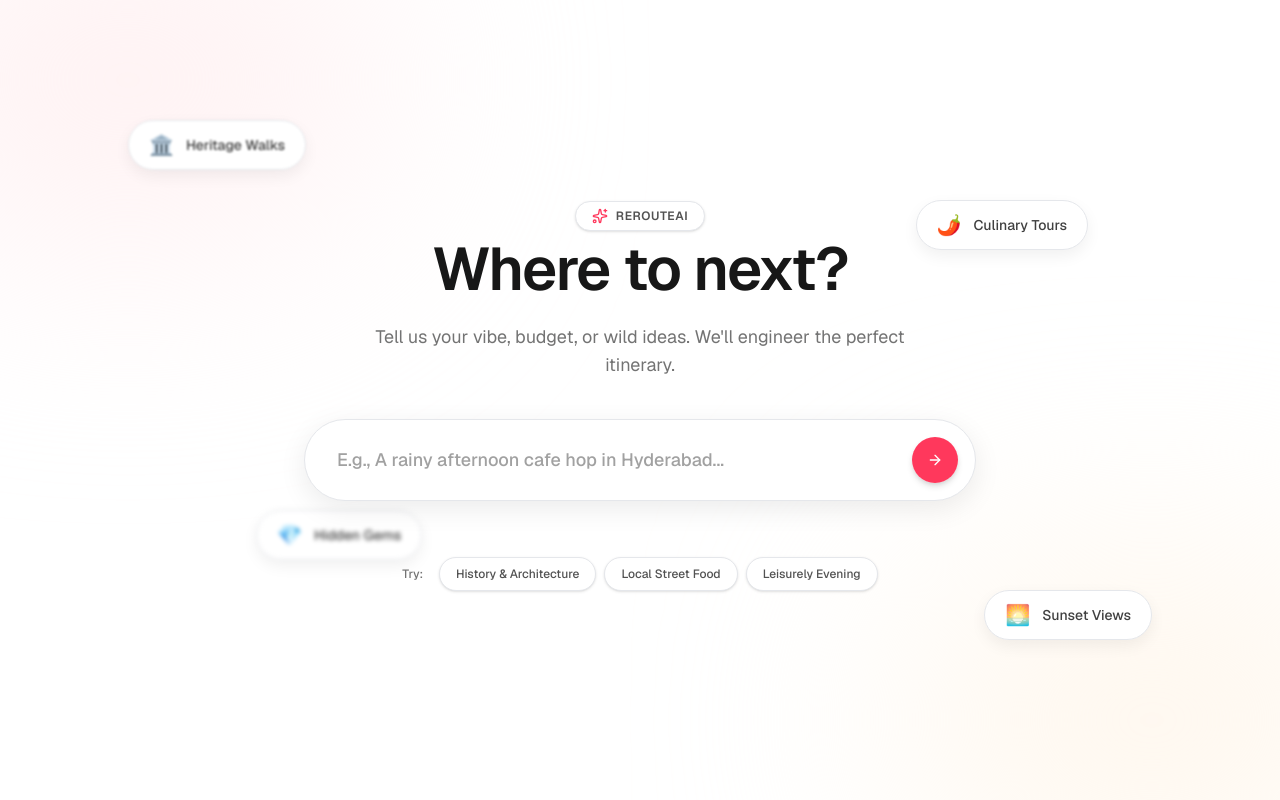
Test: Dashboard - Landing State › transitions to chat state when a suggested prompt is clicked
Click the button "History & Architecture" at (518, 574), box top-left (439, 557), bottom-right (596, 591)
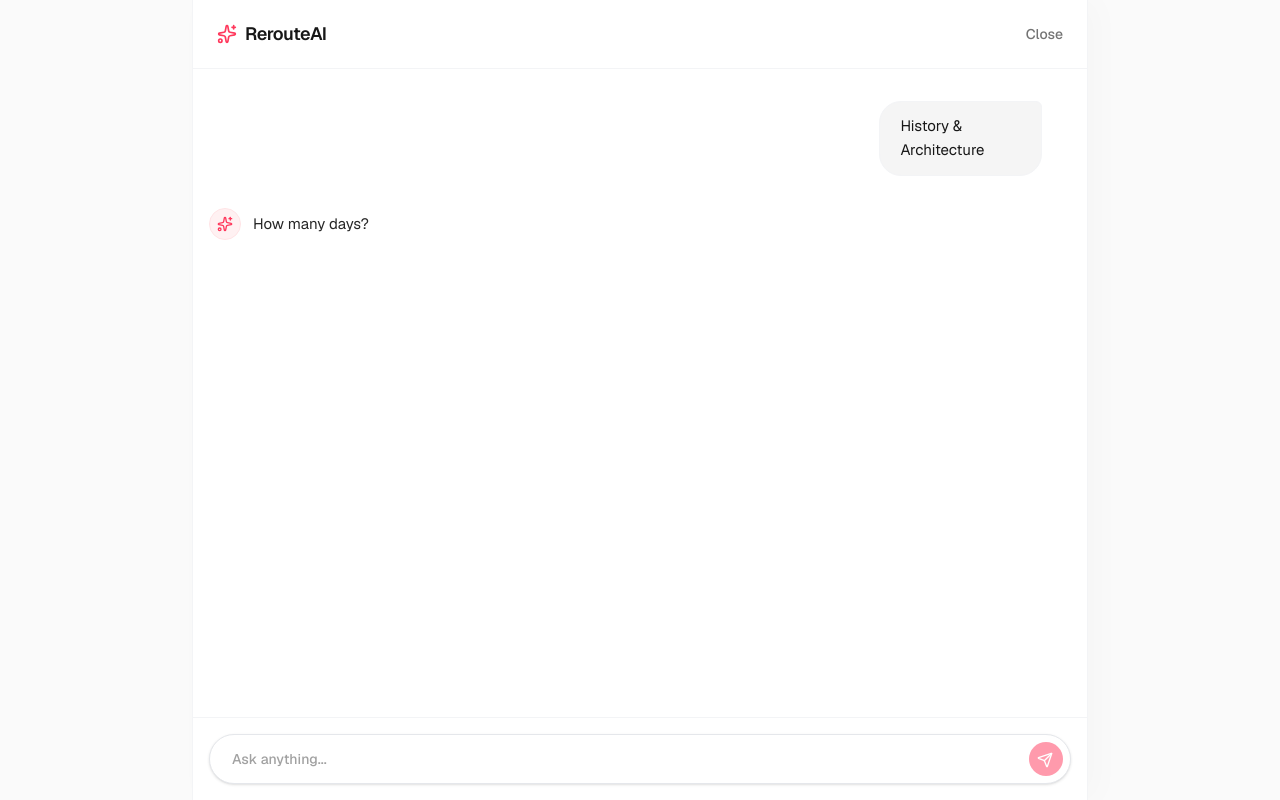
Check: the text "History & Architecture" is shown, box top-left (879, 101), bottom-right (1042, 176)
Check: the button "Close" is shown, box top-left (1026, 24), bottom-right (1063, 44)
